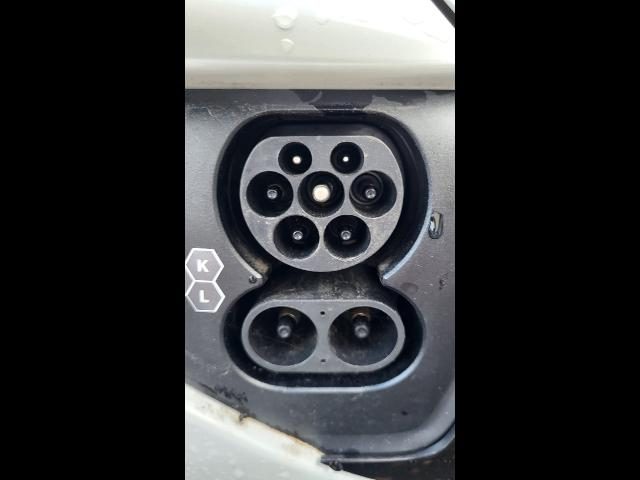inlet: (240, 136, 404, 272)
inlet-above-left: (278, 142, 313, 176)
inlet-above-right: (330, 142, 364, 176)
inlet-below-left: (274, 216, 321, 259)
inlet-below-right: (324, 215, 371, 260)
inlet-circle: (298, 171, 344, 218)
inlet-circle-left: (246, 171, 293, 218)
inlet-circle-right: (349, 170, 396, 218)
inlet-minus: (328, 306, 398, 365)
inlet-plus: (249, 306, 318, 365)
